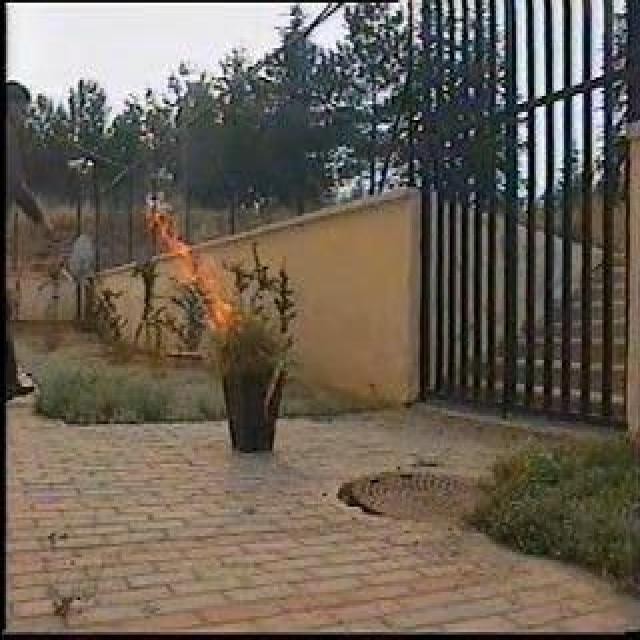fire: (153, 196, 233, 327)
